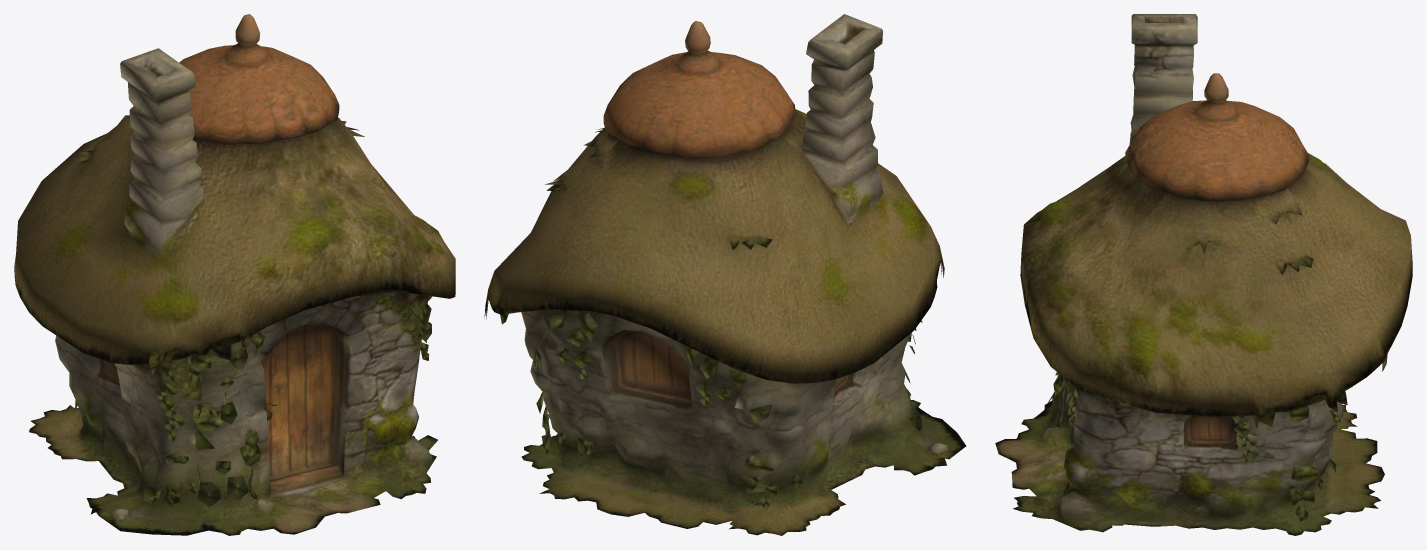
File: house_stone_thatch.glb
The picture shows the model from 3 angles, left to right: view 1: azimuth 30°, elevation 25°; view 2: azimuth 150°, elevation 25°; view 3: azimuth 270°, elevation 25°; orthographic projection. The views are drawn at different scales.
Visible parts, largest first — view 1: tripo_node_8ee15cf7-8cf9-4b1f-842d-13cf28b08587; view 2: tripo_node_8ee15cf7-8cf9-4b1f-842d-13cf28b08587; view 3: tripo_node_8ee15cf7-8cf9-4b1f-842d-13cf28b08587.
Boxes of the visible parts, x1,y1,x2,y2 form: tripo_node_8ee15cf7-8cf9-4b1f-842d-13cf28b08587: (14,14,455,535); tripo_node_8ee15cf7-8cf9-4b1f-842d-13cf28b08587: (484,14,966,535); tripo_node_8ee15cf7-8cf9-4b1f-842d-13cf28b08587: (995,14,1412,535).
Bounding box in the file's own units: 5.39 × 6 × 5.65.
1 material, 1 textured.
